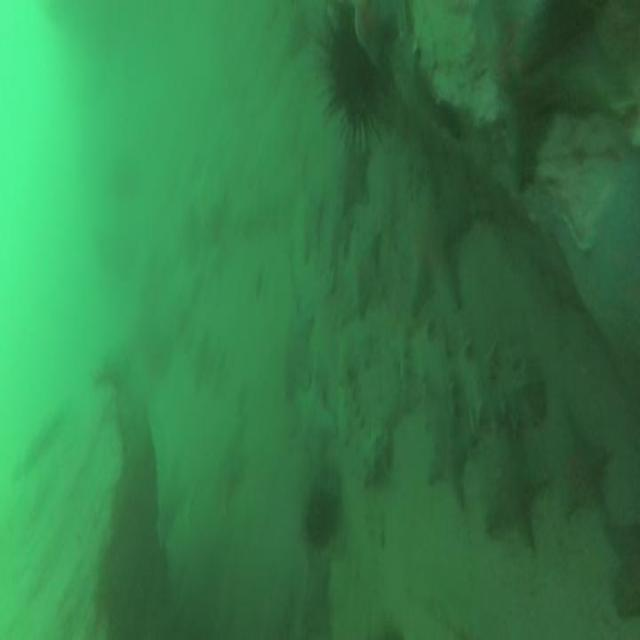echinus: (306, 0, 392, 152)
holothurian: (389, 313, 551, 425)
starfish: (470, 0, 634, 202), (484, 419, 543, 551), (425, 393, 475, 517), (551, 425, 611, 525), (282, 548, 334, 640), (289, 381, 339, 471), (281, 289, 316, 400), (348, 234, 390, 322), (349, 0, 407, 62), (333, 139, 377, 218), (289, 192, 326, 262)
